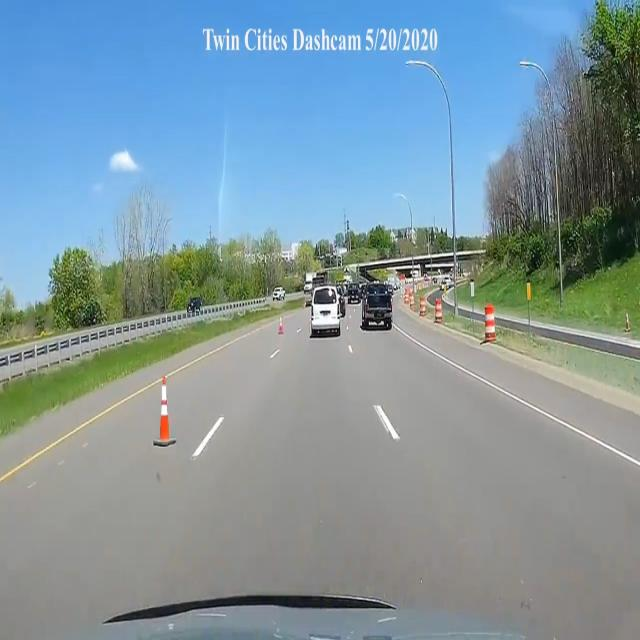Traffic Cone: (155, 375, 174, 445), (277, 318, 285, 338)
